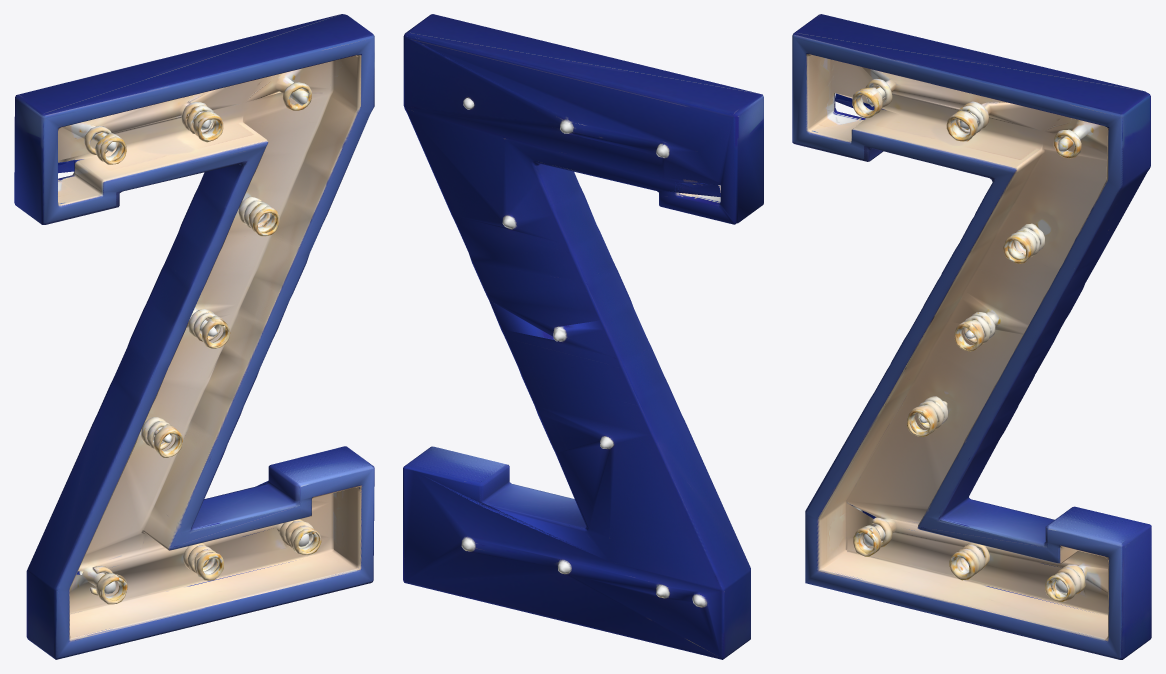
Rendered from Letter_z.glb.
The picture shows the model from 3 angles, left to right: view 1: azimuth 30°, elevation 25°; view 2: azimuth 150°, elevation 25°; view 3: azimuth 330°, elevation 25°; orthographic projection.
Visible parts, largest first — view 1: Mesh_0.002; view 2: Mesh_0.002; view 3: Mesh_0.002.
Boxes of the visible parts, box(x1,y1,x2,y2) form: Mesh_0.002: box(14, 14, 374, 659); Mesh_0.002: box(403, 14, 763, 659); Mesh_0.002: box(792, 14, 1151, 659).
Bounding box in the file's own units: 0.5802 × 0.9144 × 0.1051.
1 material, 1 textured.
